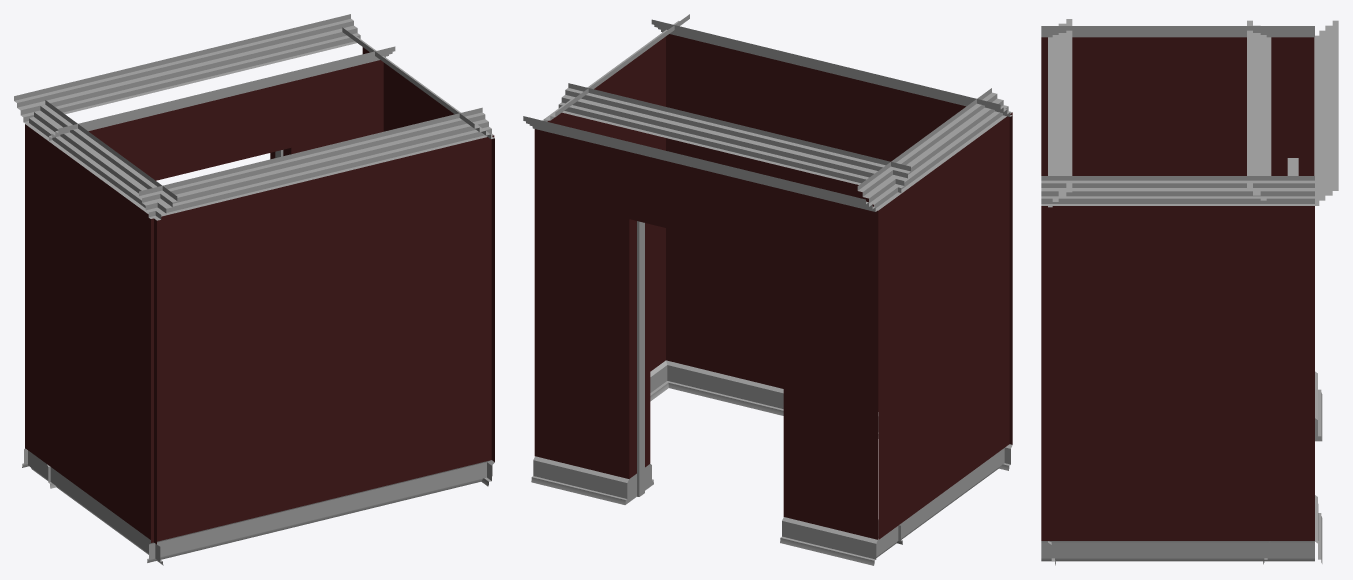
Rendered from SingleCloset.fbx.
The picture shows the model from 3 angles, left to right: view 1: azimuth 30°, elevation 25°; view 2: azimuth 150°, elevation 25°; view 3: azimuth 270°, elevation 25°; orthographic projection. The views are drawn at different scales.
Visible parts, largest first — view 1: WallOneSide22, WallOneSide19, WallOneSide23, WallOneSide21; view 2: WallOneSide23, WallOneSide19, WallOneSide22, WallOneSide21; view 3: WallOneSide21, WallOneSide19, WallOneSide23, WallOneSide22.
Boxes of the visible parts, x1,y1,x2,y2 form: WallOneSide22: (139, 107, 494, 562); WallOneSide19: (25, 100, 177, 565); WallOneSide23: (14, 14, 395, 488); WallOneSide21: (342, 27, 494, 486); WallOneSide23: (523, 83, 910, 565); WallOneSide19: (857, 88, 1012, 557); WallOneSide22: (651, 19, 1012, 470); WallOneSide21: (534, 14, 689, 456); WallOneSide21: (1041, 176, 1314, 561); WallOneSide19: (1041, 26, 1314, 175); WallOneSide23: (1247, 20, 1338, 564); WallOneSide22: (1048, 19, 1072, 565).
Size of the model in its own units: 3.53 by 3.6 by 2.56.
